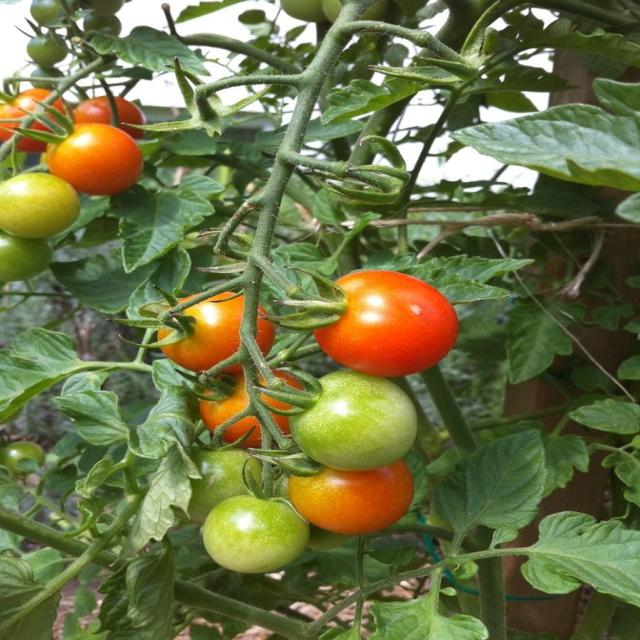level 1: (0, 234, 58, 286)
level 2: (288, 374, 417, 472), (202, 495, 312, 576)
level 3: (0, 172, 77, 240)
level 5: (196, 363, 320, 450), (290, 451, 415, 536), (158, 292, 276, 375), (48, 121, 143, 201), (0, 89, 78, 154), (76, 94, 146, 144)
level 6: (316, 269, 456, 377)
